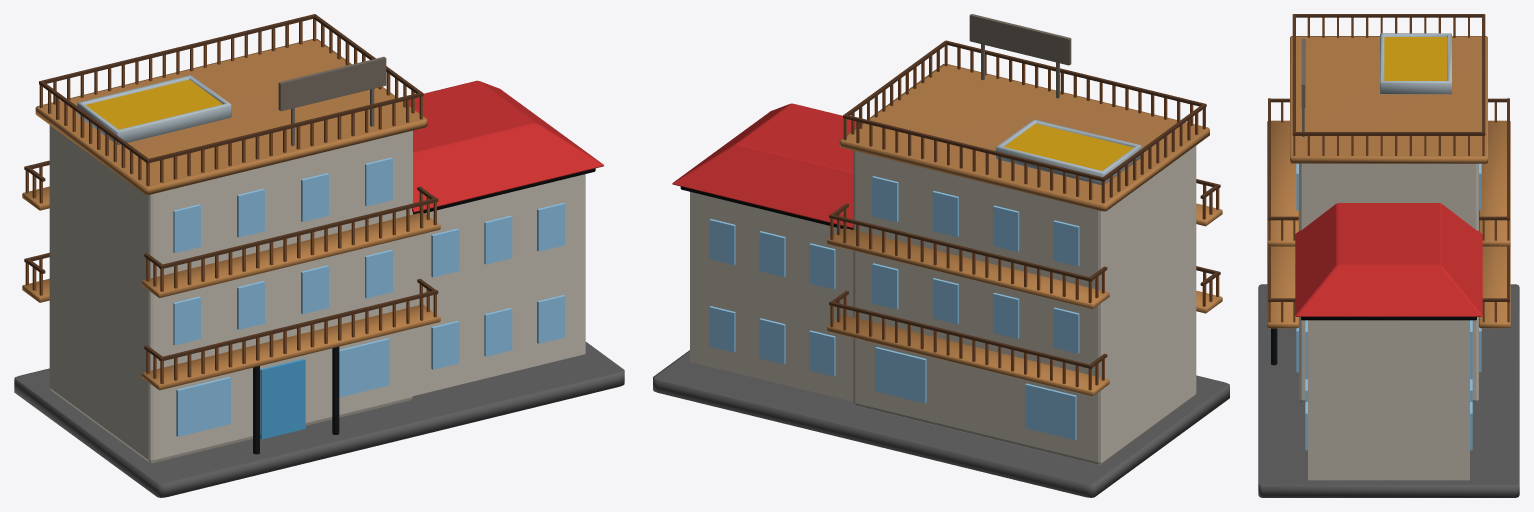
The model's file is hotel4.fbx.
3 renders of one model, left to right at view 1: azimuth 30°, elevation 25°; view 2: azimuth 150°, elevation 25°; view 3: azimuth 270°, elevation 25°, orthographic. The views are drawn at different scales.
Visible parts, largest first — view 1: alap, neontalp, tetoviz, tetomedence; view 2: alap, neontalp, tetoviz, tetomedence; view 3: alap, tetoviz, tetomedence, neontalp.
Boxes of the visible parts, x1,y1,x2,y2 form: alap: [14, 14, 624, 497]; neontalp: [278, 56, 386, 145]; tetoviz: [85, 80, 222, 129]; tetomedence: [77, 75, 231, 145]; alap: [653, 40, 1229, 497]; neontalp: [969, 14, 1071, 98]; tetoviz: [1004, 123, 1133, 170]; tetomedence: [995, 119, 1141, 185]; alap: [1258, 14, 1519, 497]; tetoviz: [1384, 37, 1447, 80]; tetomedence: [1380, 33, 1451, 94]; neontalp: [1301, 38, 1305, 136].
Bounding box in the file's own units: 10.6 × 7.85 × 5.8.
Materials: 1 (1 with a texture image).
